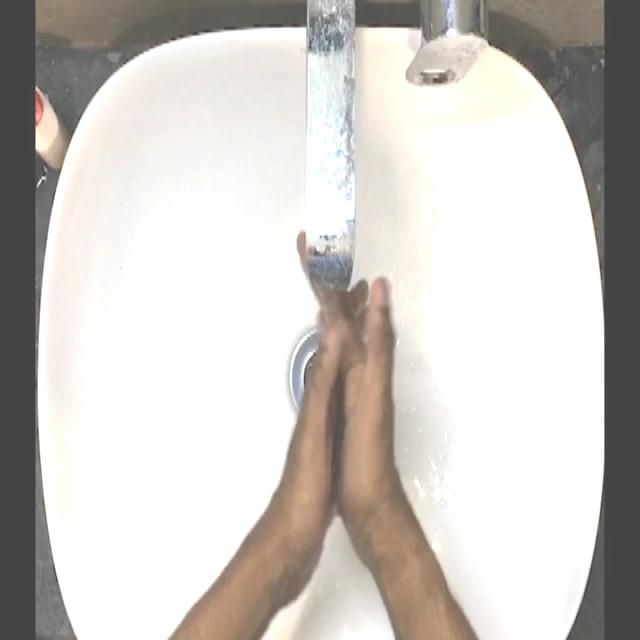step_3: (273, 220, 409, 558)
